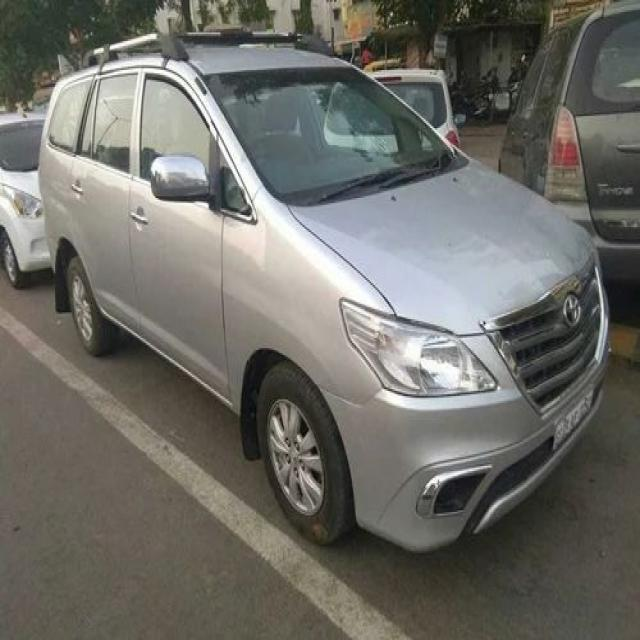light_vehicle: (34, 28, 610, 556)
